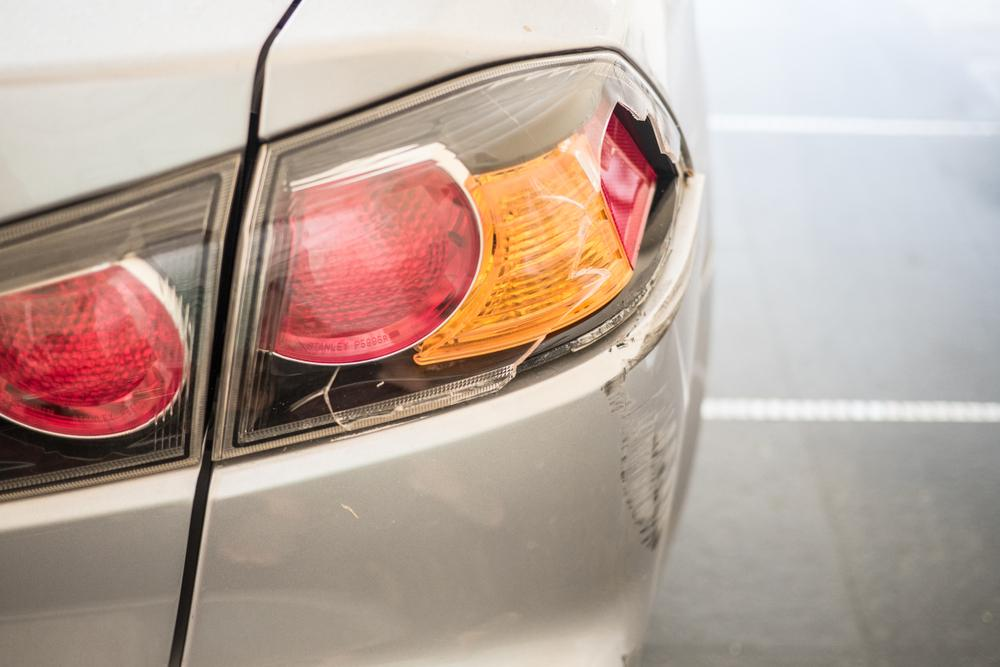lamp broken: (216, 48, 691, 455)
scratch: (601, 305, 683, 548)
